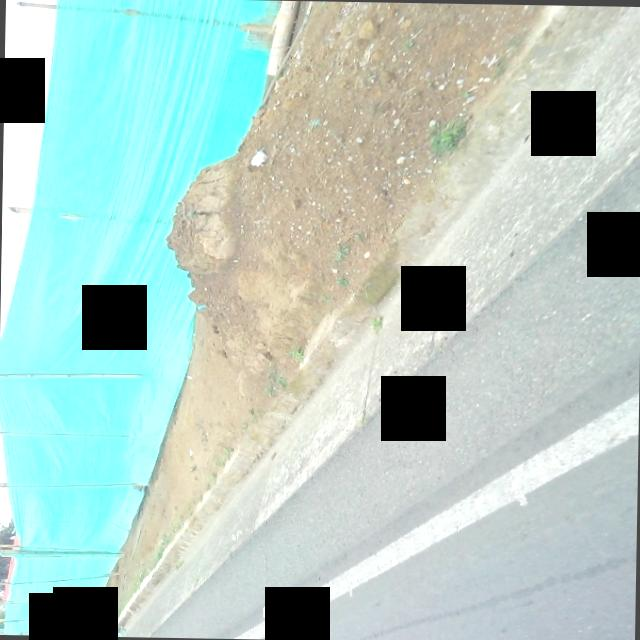DITCH: (47, 0, 640, 640), (70, 0, 640, 640), (102, 0, 640, 640)
